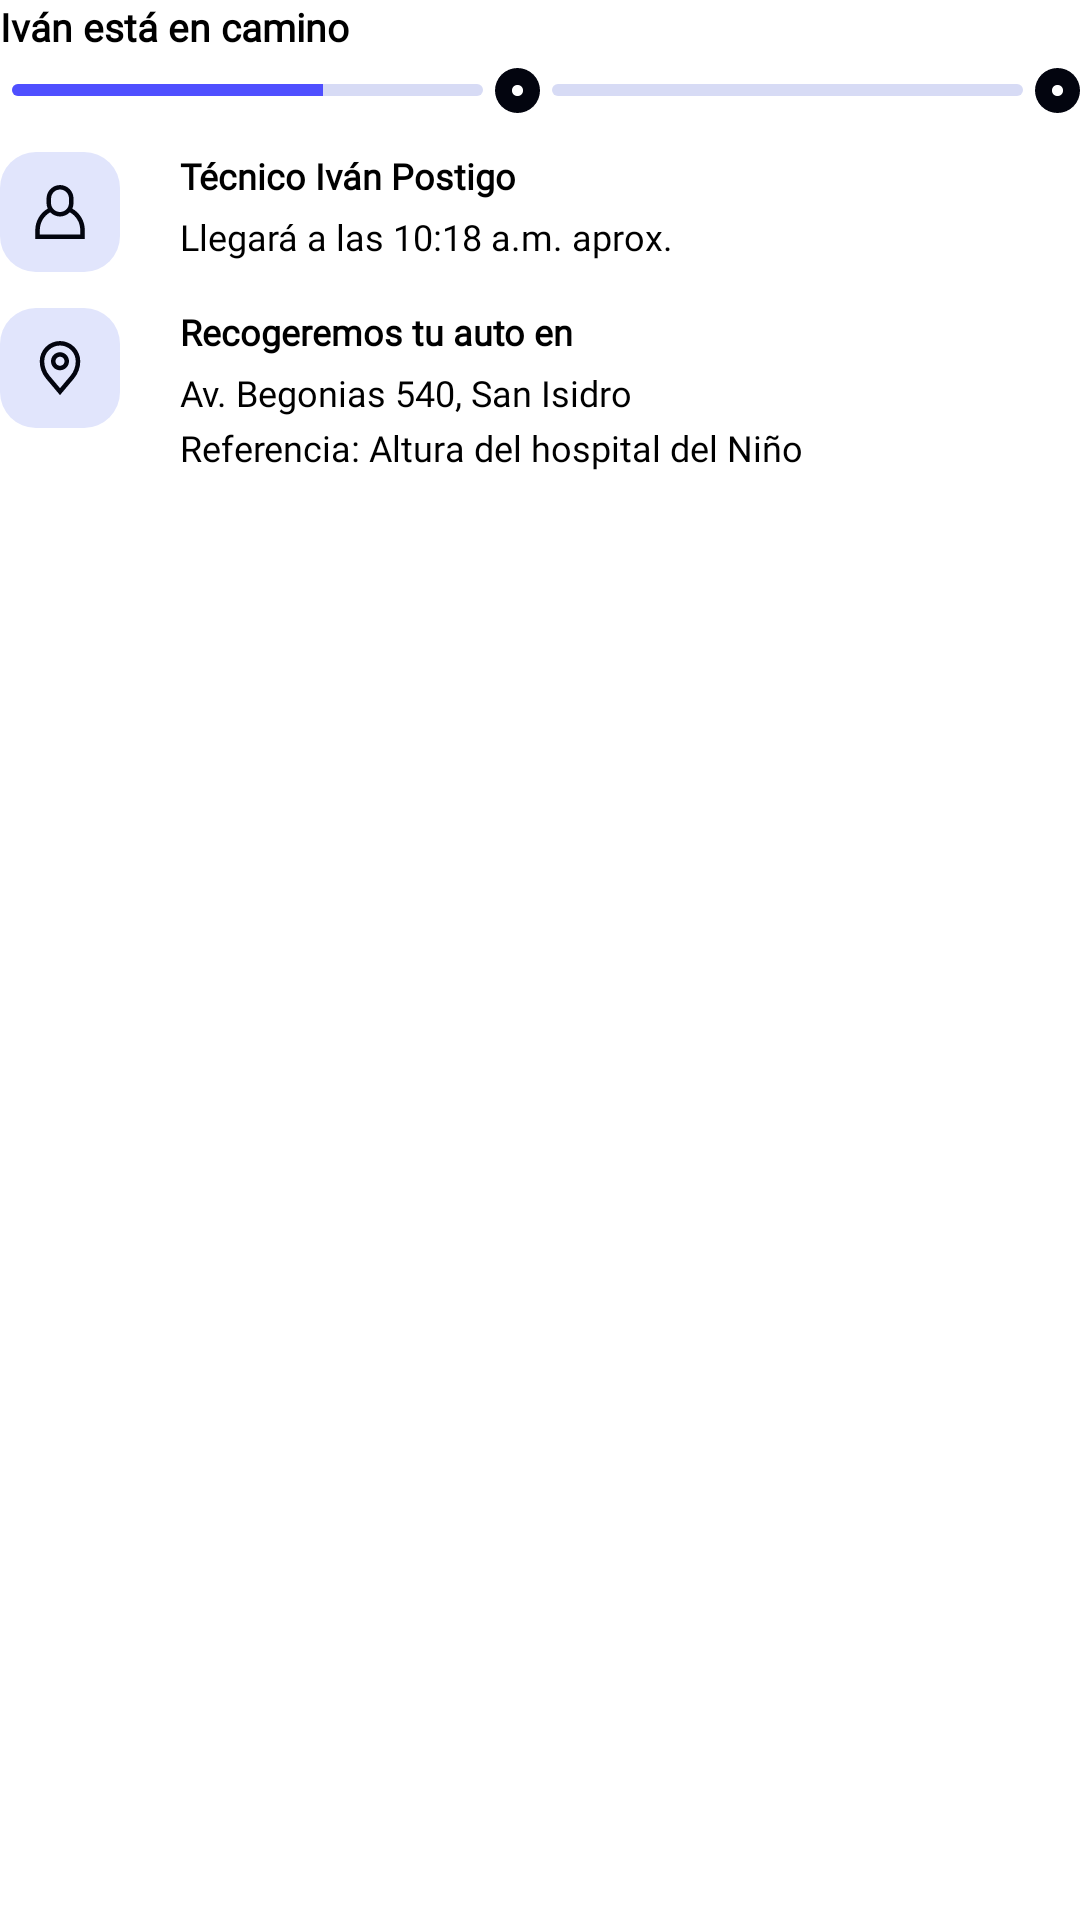

Named icons in this screenshot (1080×1920) and their bounding boxes, {"x1": x1, "y1": y1, "x2": x2, "y2": y2}:
endpoint: {"x1": 495, "y1": 68, "x2": 540, "y2": 113}, {"x1": 1035, "y1": 68, "x2": 1080, "y2": 113}
ubicationcard: {"x1": 0, "y1": 308, "x2": 120, "y2": 428}
usercard: {"x1": 0, "y1": 152, "x2": 120, "y2": 272}
